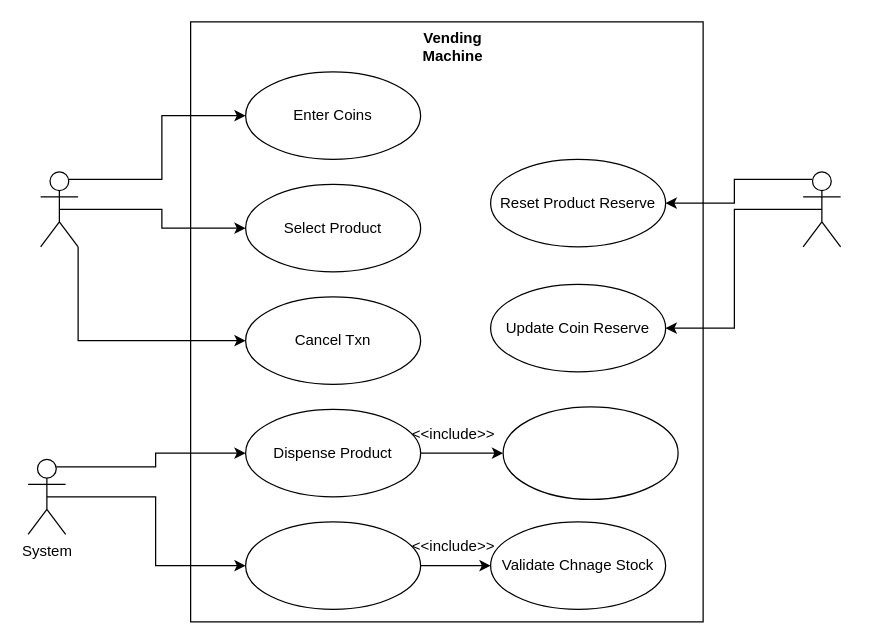
Image size: 870x644. Some labels were removed from this diagram. The shapes that lost their labels are listed below. From the top down, each one's box as (x1, y1, x2, y2) in pixels, then its label:
(39, 171, 78, 247): User
(802, 171, 841, 247): Supplier
(502, 406, 678, 499): Validate Product stock & Product Price
(244, 521, 421, 609): Dispense Change
